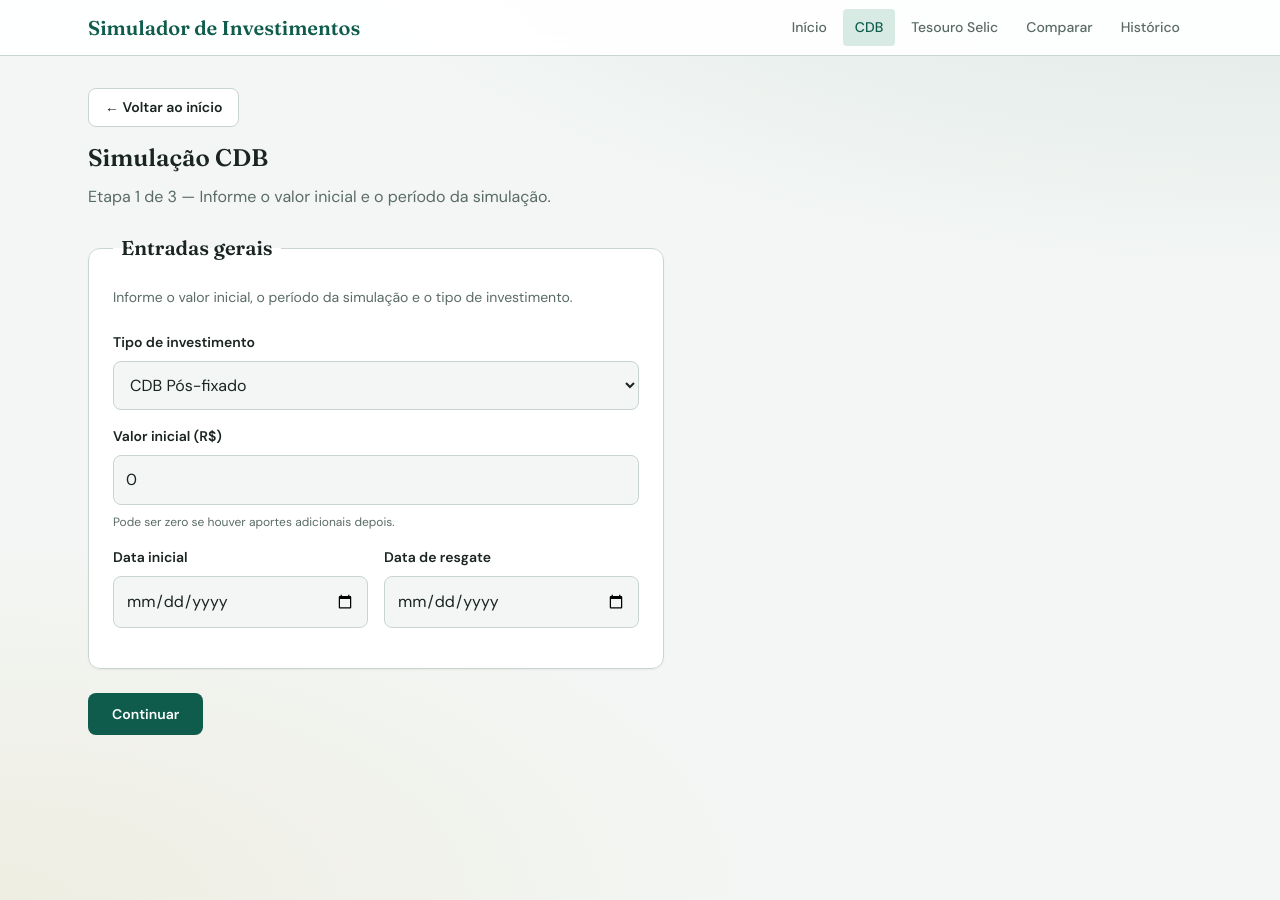
Test: simulation wizard steps › shows a back button to the previous step on contributions
Step 1. Replace the text in the field labelled "Valor inicial (R$)" with "10000" → (376, 480), box [113,455,639,505]
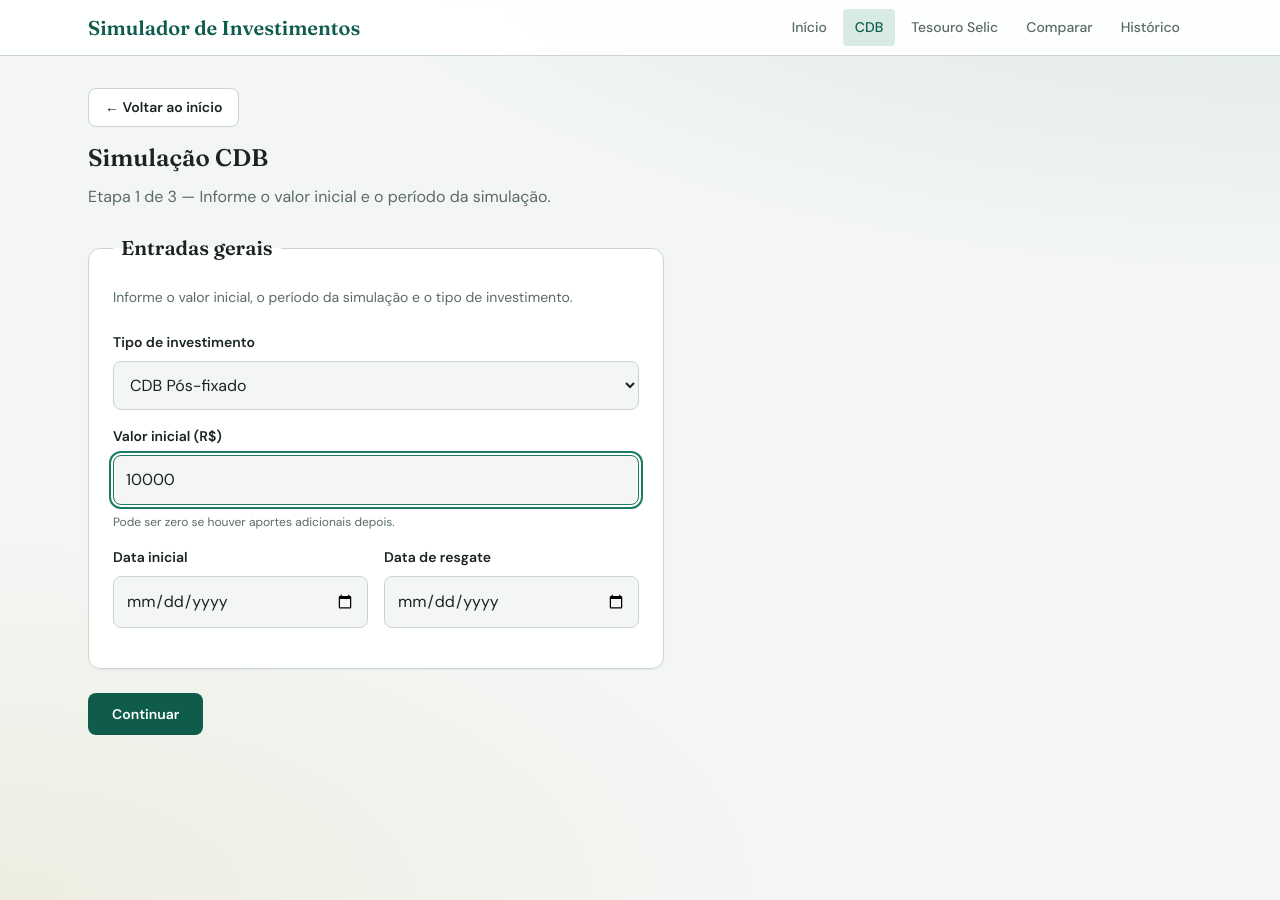
Step 2. Type "2026-01-01" into the date field labelled "Data inicial" → (240, 602), box [113,576,368,628]
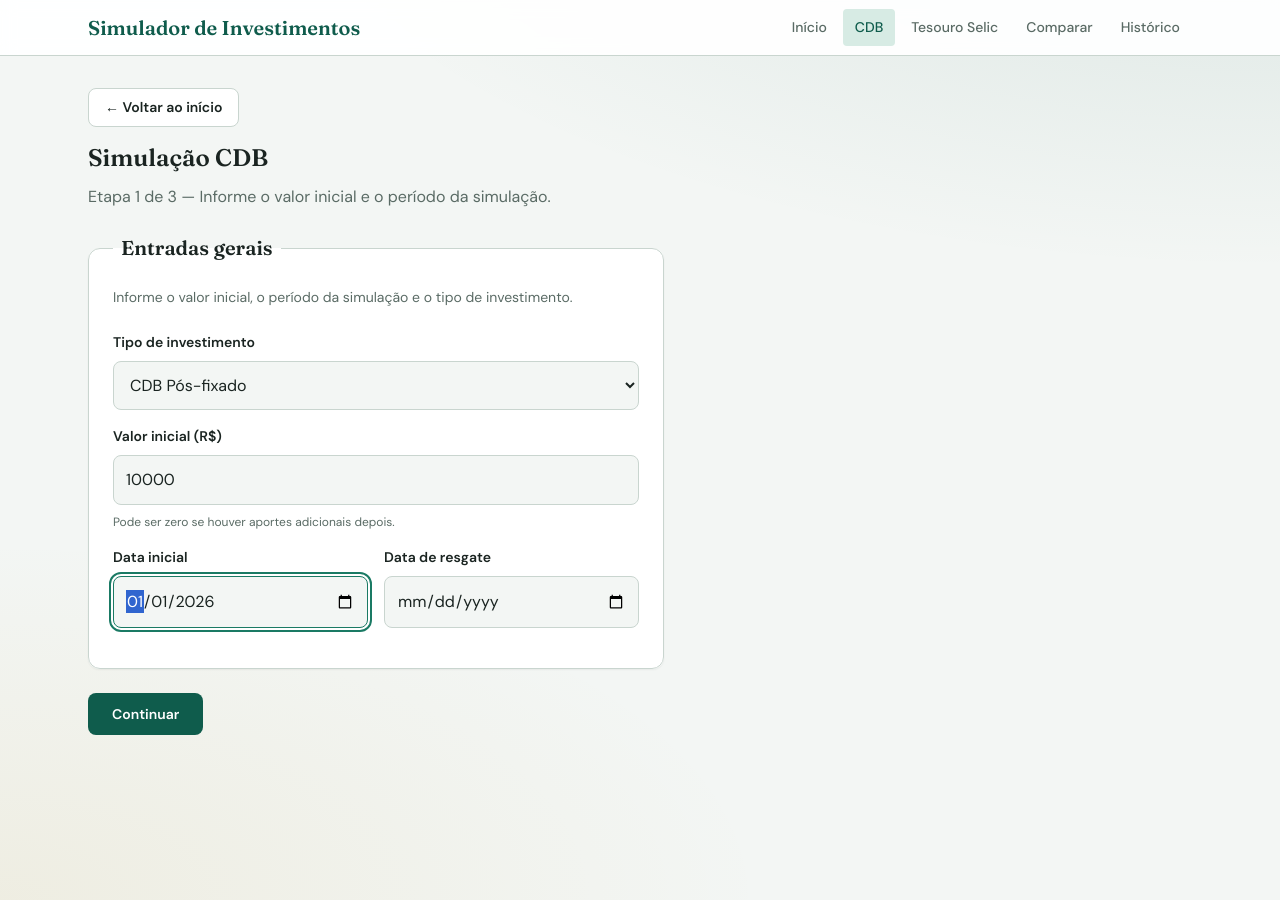
Step 3. Type "2027-01-01" into the date field labelled "Data de resgate" → (512, 602), box [384,576,639,628]
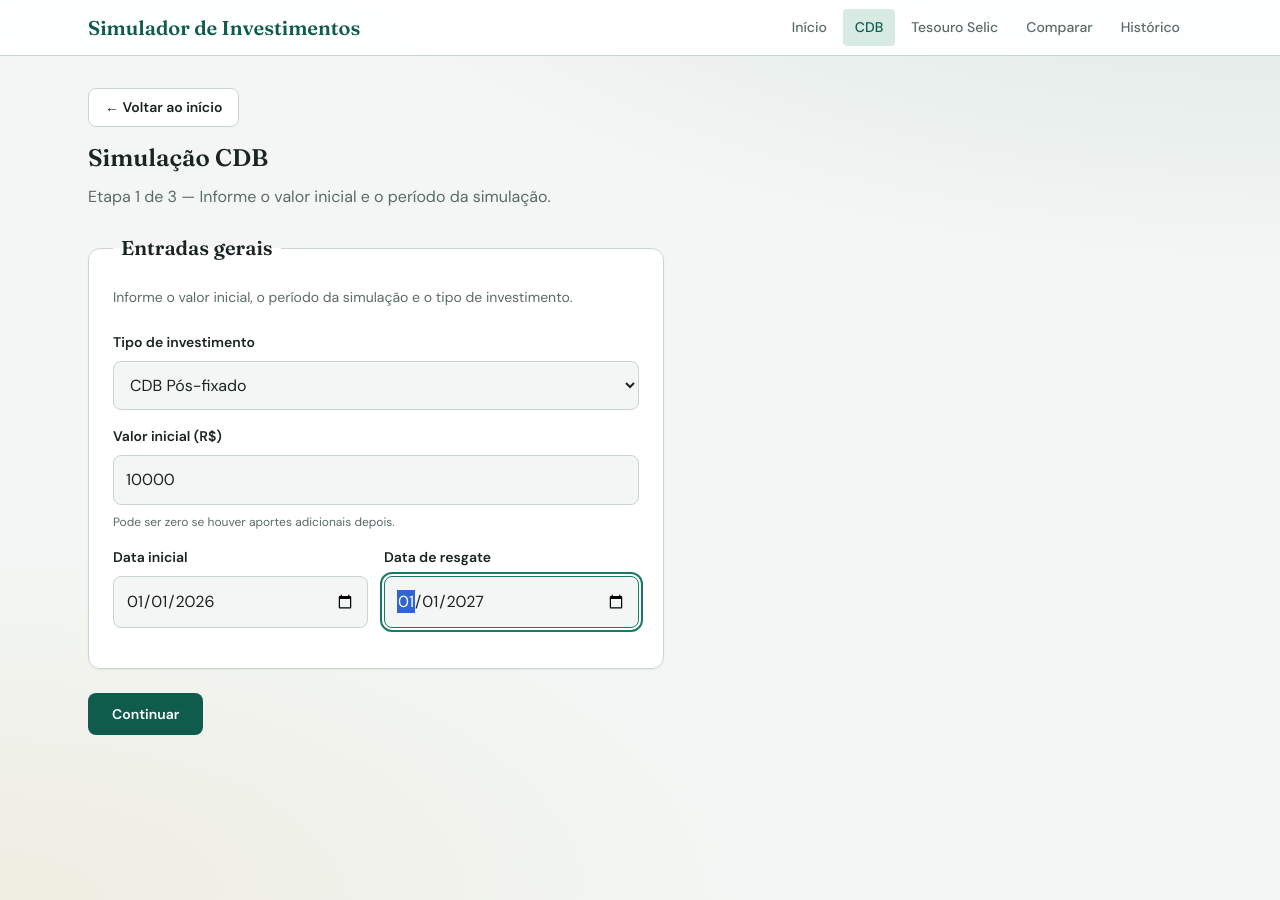
Step 4. Click the button "Continuar" → (146, 714), box [88,693,203,735]
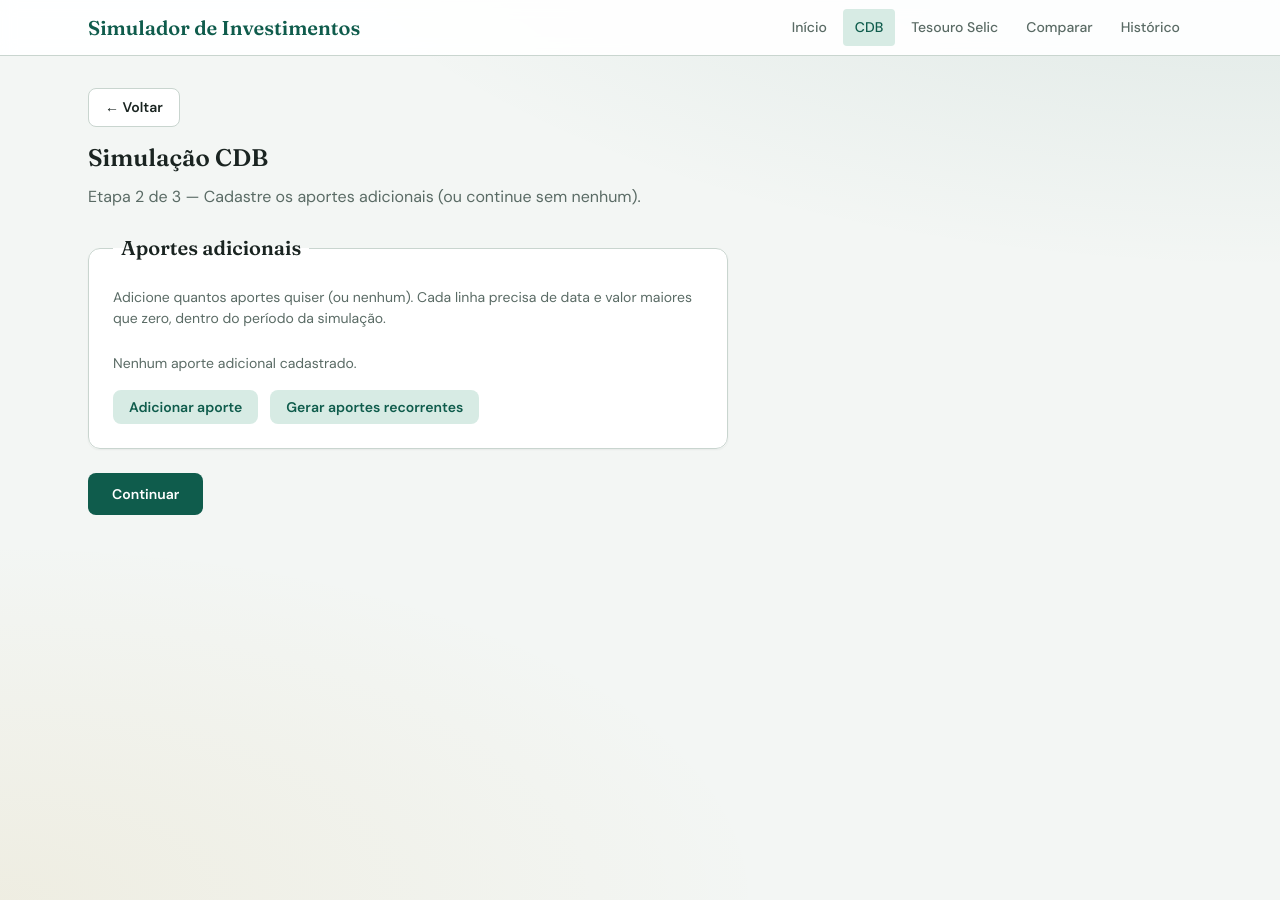
Step 5. Click the link "← Voltar" → (134, 108), box [88,88,180,127]
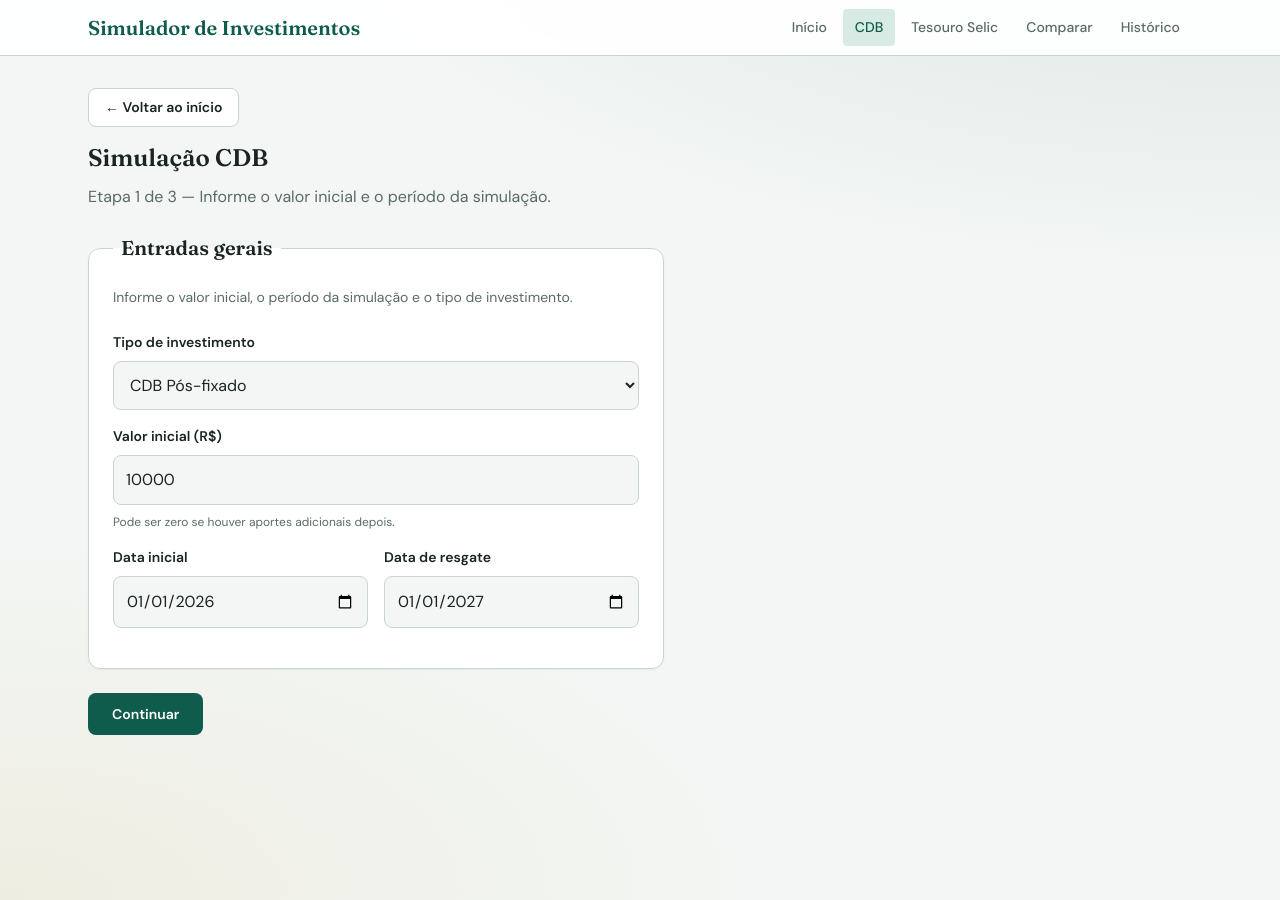
Result: the element "Entradas gerais" is shown at [88,233,664,669]
